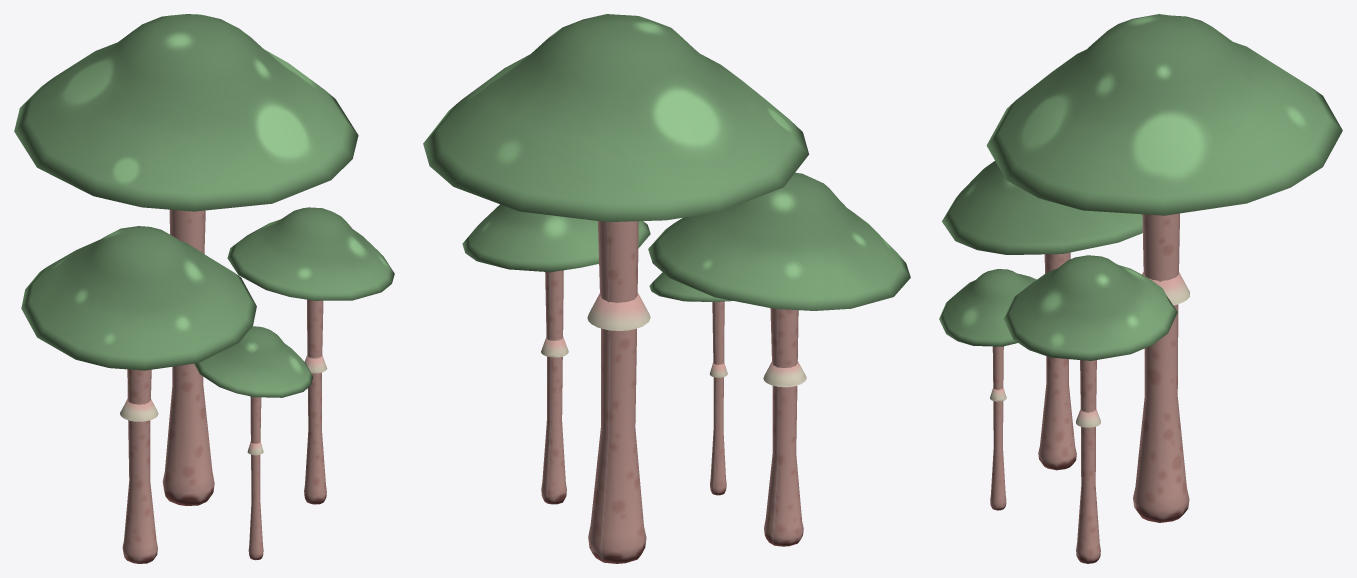
File: mushroom4.glb
3 renders of one model, left to right at view 1: azimuth 30°, elevation 25°; view 2: azimuth 150°, elevation 25°; view 3: azimuth 270°, elevation 25°, orthographic. The views are drawn at different scales.
Visible parts, largest first — view 1: Object_5; view 2: Object_5; view 3: Object_5.
Part boxes in pixels (box(x1,y1,x2,y2)): Object_5: box(14, 14, 394, 563); Object_5: box(423, 14, 910, 563); Object_5: box(939, 14, 1342, 563).
Bounding box in the file's own units: 0.5841 × 0.733 × 0.5485.
1 material, 1 textured.
